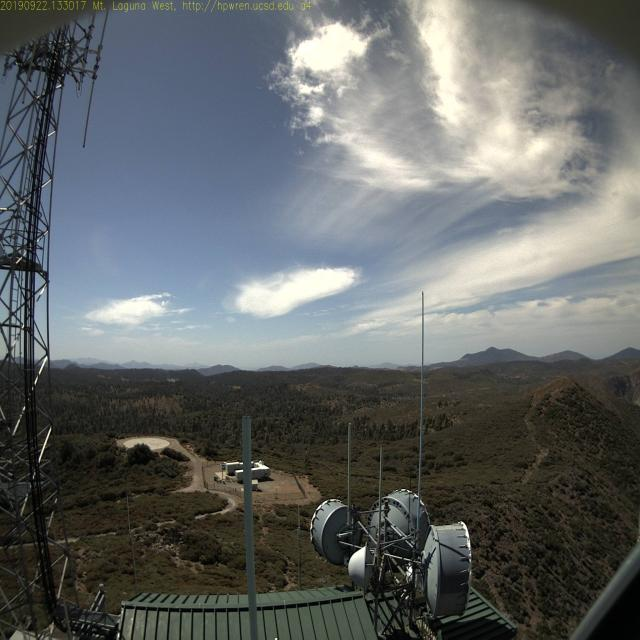smoke: (167, 370, 178, 385)
